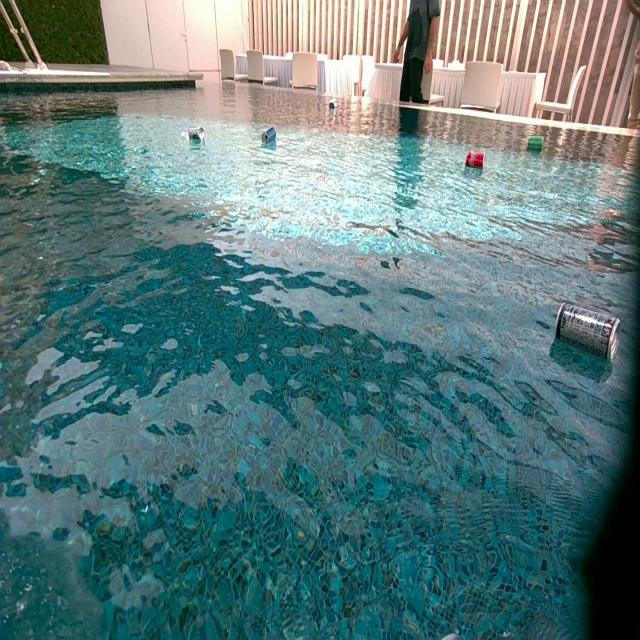Cans: (554, 307, 622, 365), (464, 154, 484, 170), (187, 127, 203, 145), (527, 134, 543, 150), (263, 128, 278, 145), (328, 100, 336, 109)
